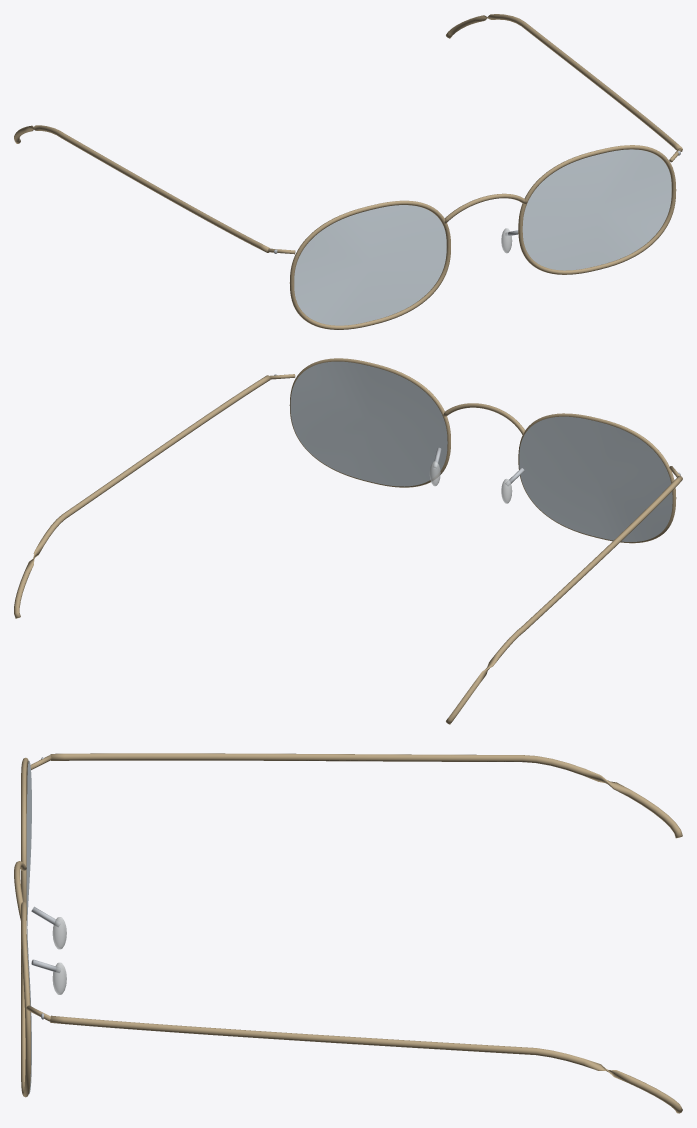
File: tim-57-v1.glb
3 renders of one model, top to bottom at view 1: azimuth 30°, elevation 25°; view 2: azimuth 150°, elevation 25°; view 3: azimuth 270°, elevation 25°, orthographic. The views are drawn at different scales.
Visible parts, largest first — view 1: lens_right, lens_left, rim_right, rim_left, temple_right, temple_left; view 2: lens_left, lens_right, temple_left, temple_right, rim_left, rim_right; view 3: temple_right, temple_left, rim_left, rim_right, lens_right.
Boxes of the visible parts, x1=… form: lens_right: x1=294, y1=205, x2=446, y2=325; lens_left: x1=522, y1=149, x2=671, y2=270; rim_right: x1=289, y1=200, x2=450, y2=329; rim_left: x1=518, y1=145, x2=676, y2=274; temple_right: x1=14, y1=125, x2=269, y2=252; temple_left: x1=446, y1=14, x2=682, y2=151; lens_left: x1=290, y1=361, x2=447, y2=486; lens_right: x1=519, y1=416, x2=672, y2=541; temple_left: x1=14, y1=375, x2=270, y2=618; temple_right: x1=446, y1=476, x2=682, y2=724; rim_left: x1=289, y1=358, x2=450, y2=487; rim_right: x1=518, y1=413, x2=676, y2=543; temple_right: x1=50, y1=753, x2=682, y2=838; temple_left: x1=50, y1=1015, x2=682, y2=1113; rim_left: x1=21, y1=902, x2=30, y2=1097; rim_right: x1=21, y1=757, x2=28, y2=920; lens_right: x1=26, y1=761, x2=31, y2=925.
Size of the model in its own units: 0.1557 by 0.0384 by 0.149.
